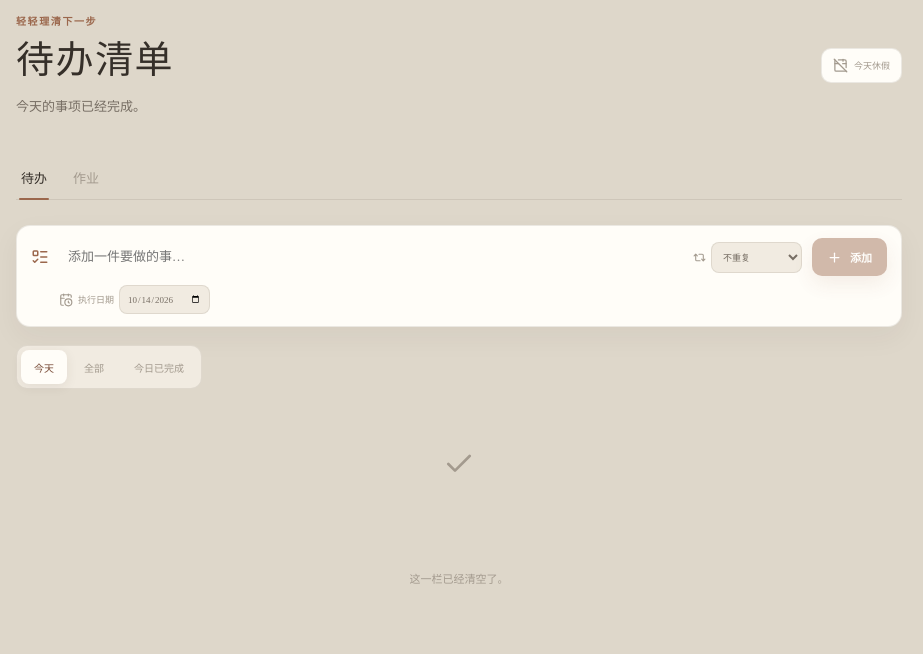
Test: minimal assignment paper UI › adds a single deadline with course and date only
This screenshot has width=923, height=654.
Click the button "作业": click(86, 178) x1=71 y1=156 x2=101 y2=199
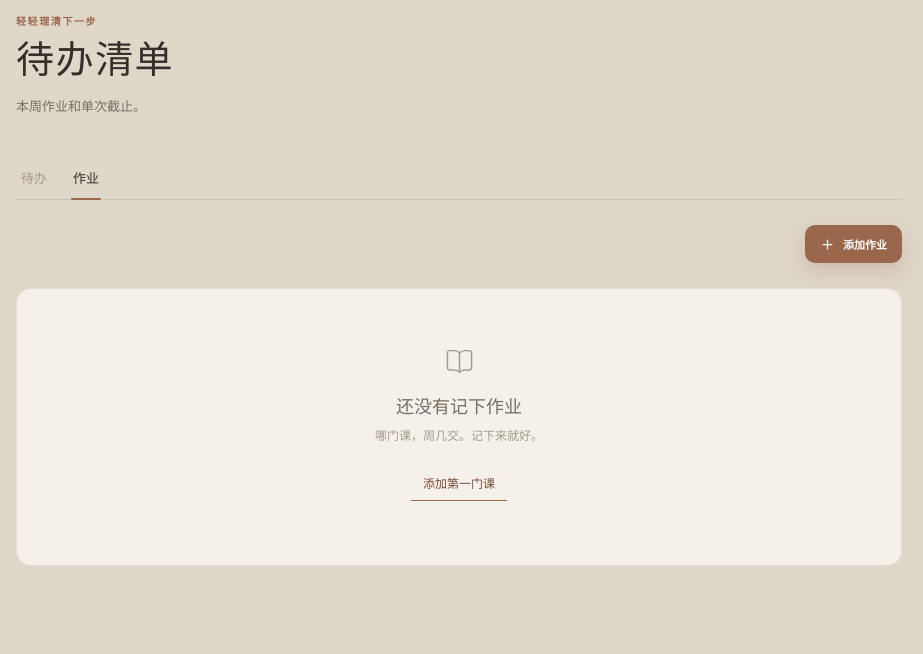
Click the button "添加作业": click(854, 244) x1=805 y1=225 x2=902 y2=263
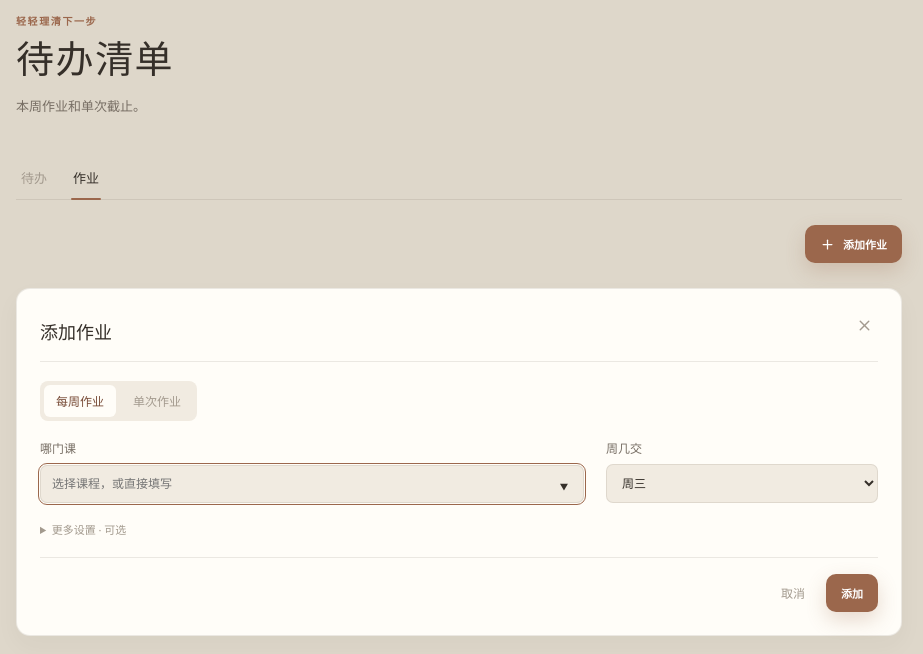
Click the button "单次作业": click(157, 401) x1=121 y1=385 x2=193 y2=417
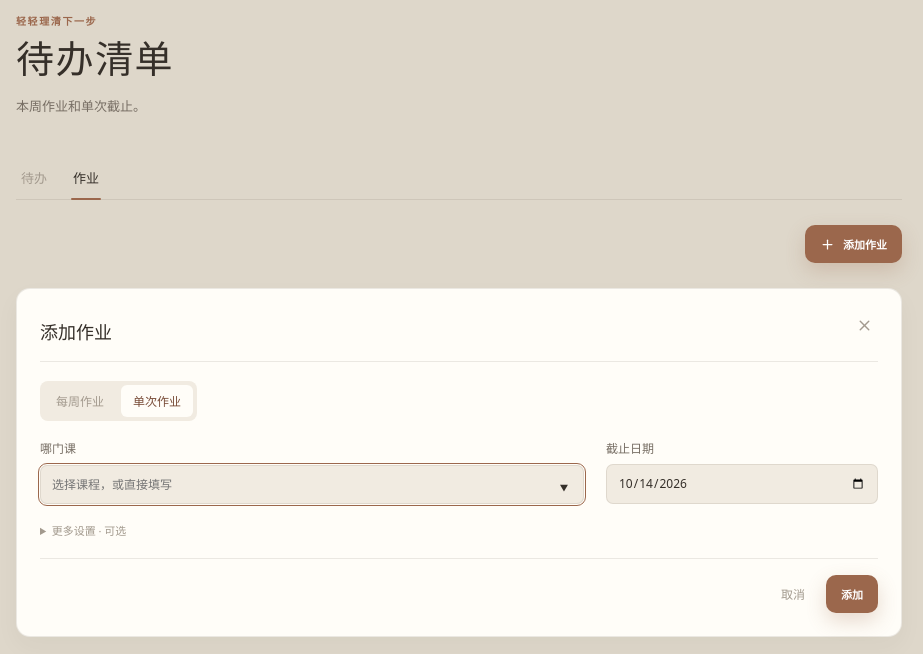
In the field labelled "哪门课": (312, 485) x1=40 y1=465 x2=584 y2=504, type "交互设计"
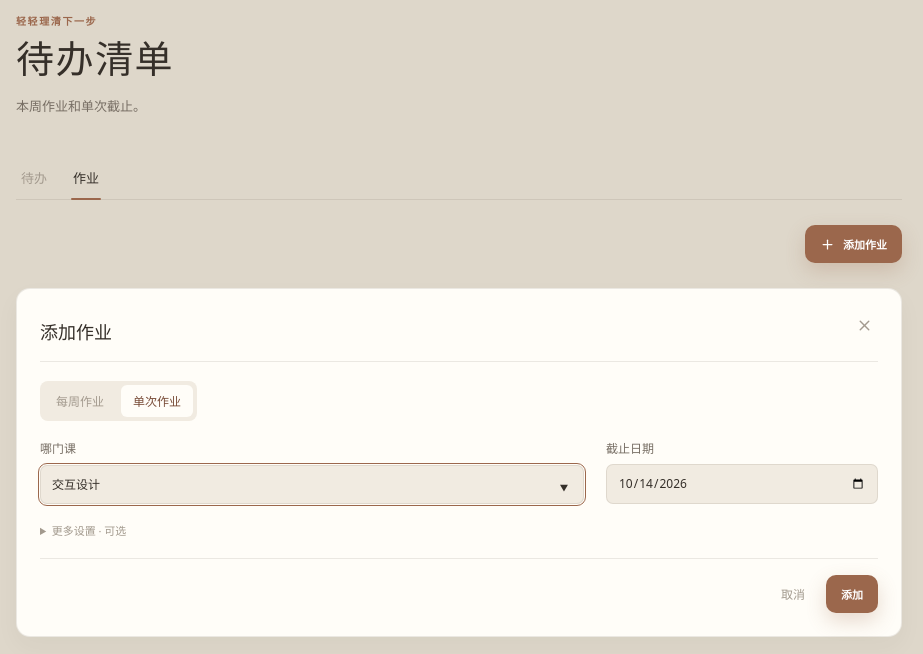
In the date field labelled "截止日期": (742, 484) x1=606 y1=464 x2=878 y2=504, type "2027-01-15"
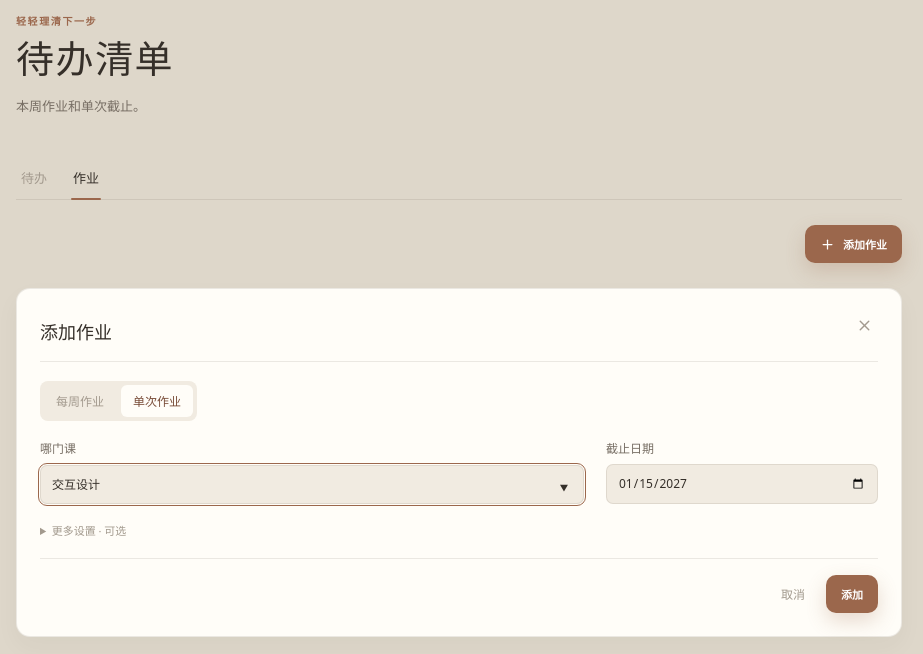
Submit the form named "新增作业", box x1=16 y1=288 x2=902 y2=637
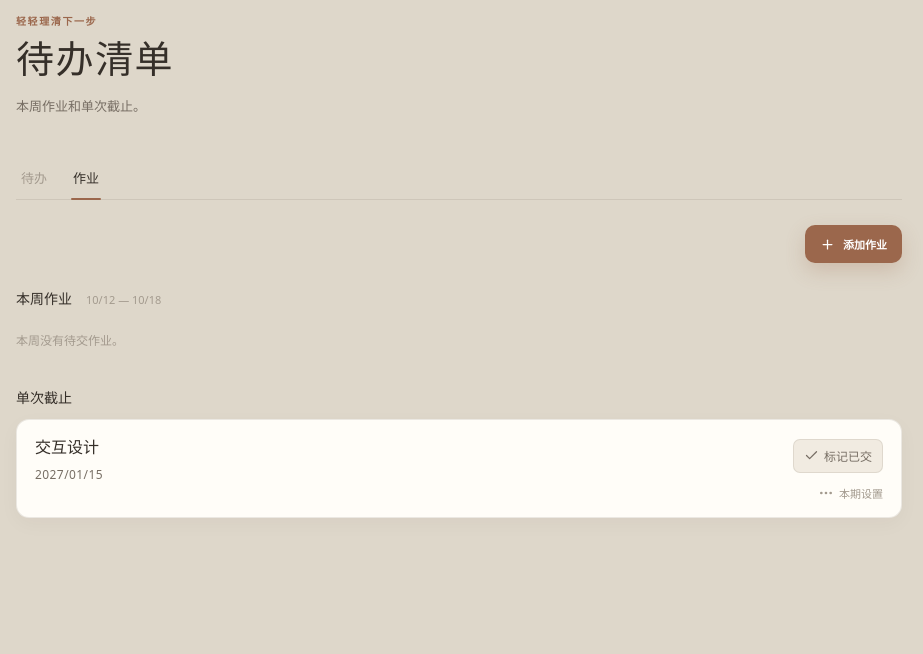
Check: the text "2027/01/15" is shown, box x1=35 y1=466 x2=103 y2=483
